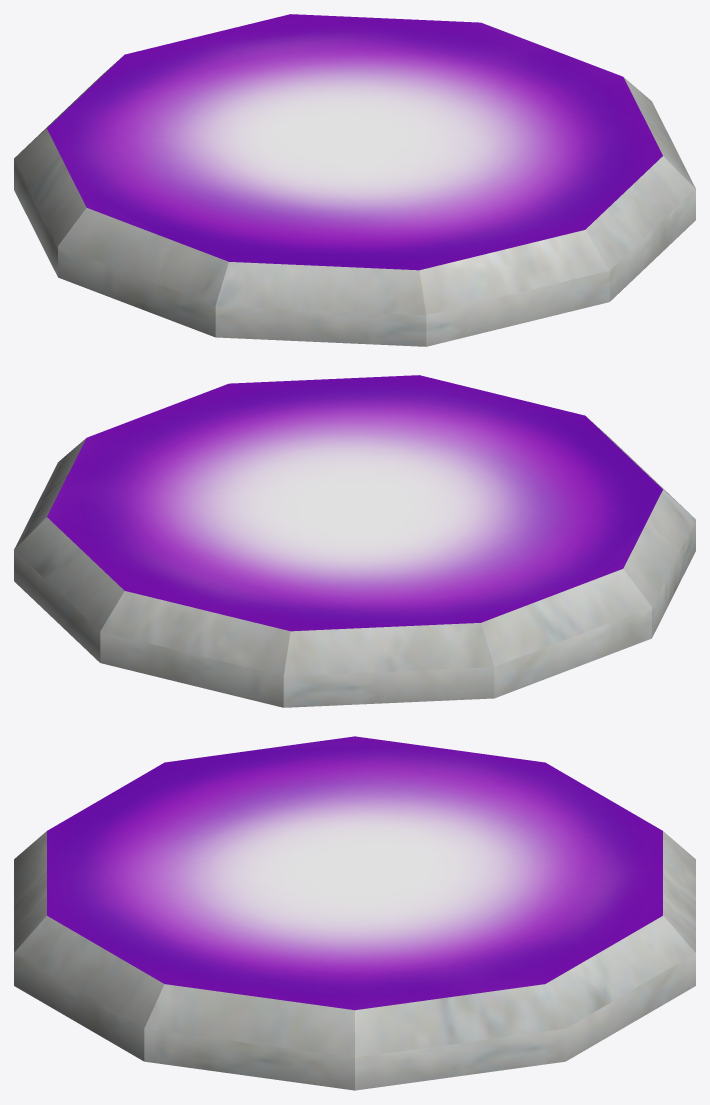
The model's file is SAModel_WarpPad.fbx.
3 views of the same model, one above another, from view 1: azimuth 30°, elevation 25°; view 2: azimuth 150°, elevation 25°; view 3: azimuth 270°, elevation 25° (orthographic). The views are drawn at different scales.
Visible parts, largest first — view 1: Stage0001__1_:WarpPad0; view 2: Stage0001__1_:WarpPad0; view 3: Stage0001__1_:WarpPad0.
Part boxes in pixels (x1,y1,x2,y2): Stage0001__1_:WarpPad0: (14,14,695,346); Stage0001__1_:WarpPad0: (14,375,695,707); Stage0001__1_:WarpPad0: (14,736,695,1090).
Bounding box in the file's own units: 6.72 × 0.6796 × 6.39.
